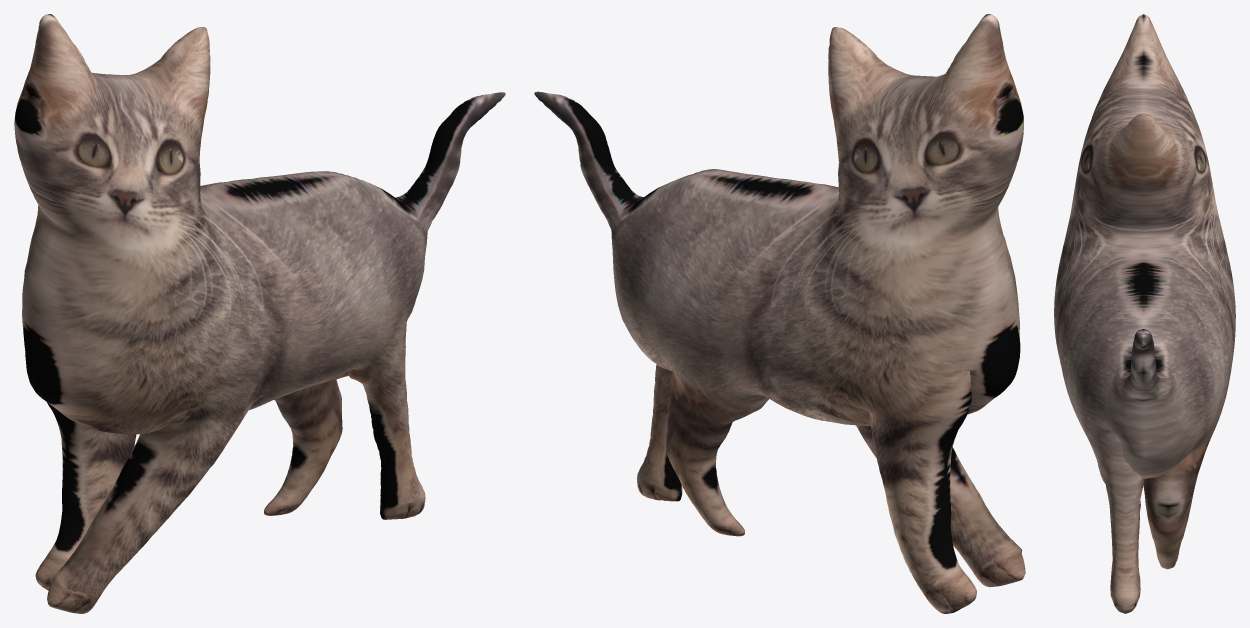
File: asset.glb
3 renders of one model, left to right at view 1: azimuth 30°, elevation 25°; view 2: azimuth 150°, elevation 25°; view 3: azimuth 270°, elevation 25°, orthographic. The views are drawn at different scales.
Bounding box in the file's own units: 5.62 × 6.63 × 2.29.
Materials: 1 (1 with a texture image).
